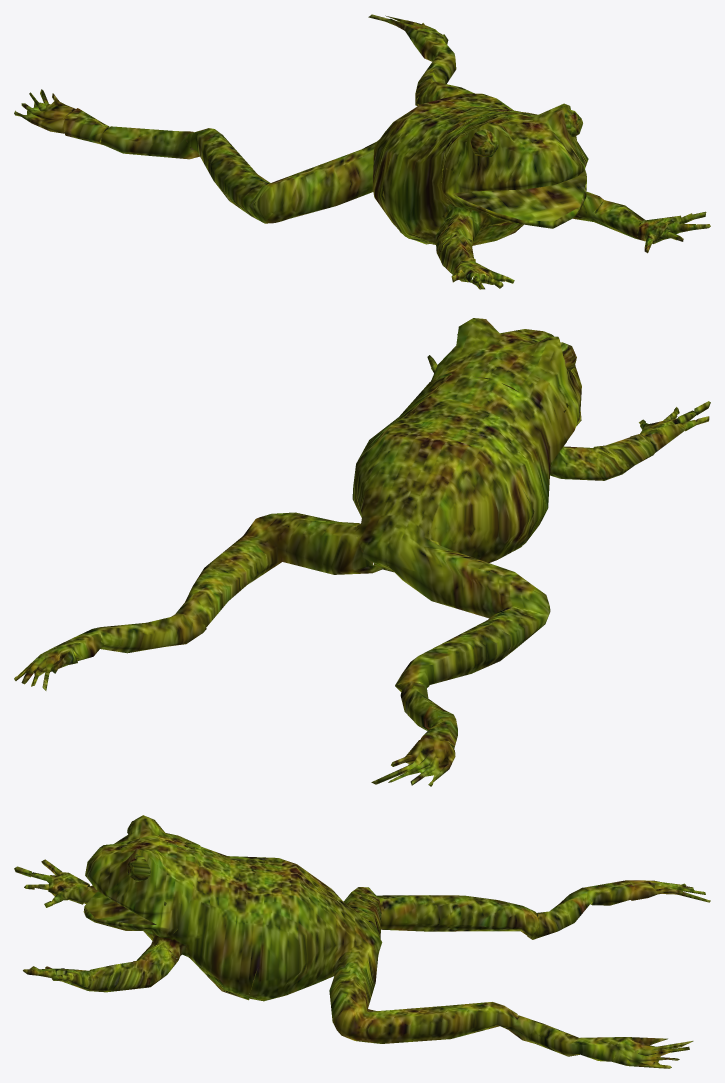
The model's file is frog2.obj.
3 views of the same model, one above another, from view 1: azimuth 30°, elevation 25°; view 2: azimuth 150°, elevation 25°; view 3: azimuth 270°, elevation 25° (orthographic). The views are drawn at different scales.
Visible parts, largest first — view 1: chest, rThigh, rShin, rAnkle, hip, rToes, lForeArm, rFoot, rForeArm, lAnkle, rShldr, lHand (+5 smaller); view 2: chest, hip, rThigh, rShin, lThigh, lShin, lAnkle, rToes, rForeArm, rAnkle, rShldr, lToes (+2 smaller); view 3: chest, hip, lShin, rShin, lThigh, lToes, lAnkle, lForeArm, rAnkle, lShldr, rToes, lFoot (+4 smaller).
Part boxes in pixels (box(x1,y1,x2,y2)): chest: box(382, 98, 588, 245); rThigh: box(256, 142, 375, 222); rShin: box(187, 128, 273, 223); rAnkle: box(100, 126, 199, 159); hip: box(372, 93, 495, 244); rToes: box(14, 89, 75, 133); lForeArm: box(592, 200, 645, 239); rFoot: box(62, 108, 109, 144); rForeArm: box(436, 233, 475, 276); lAnkle: box(415, 52, 456, 105); rShldr: box(435, 213, 479, 251); lHand: box(637, 215, 682, 243); chest: box(371, 318, 581, 544); hip: box(352, 425, 534, 572); rThigh: box(388, 542, 545, 618); rShin: box(395, 595, 550, 687); lThigh: box(256, 512, 381, 574); lShin: box(176, 519, 282, 627); lAnkle: box(93, 613, 206, 653); rToes: box(371, 738, 455, 786); rForeArm: box(593, 434, 656, 480); rAnkle: box(395, 681, 455, 730); rShldr: box(561, 446, 608, 480); lToes: box(14, 646, 77, 690); chest: box(83, 815, 278, 1000); hip: box(249, 858, 382, 1001); lShin: box(337, 1002, 517, 1043); rShin: box(377, 895, 538, 937); lThigh: box(329, 946, 379, 1029); lToes: box(612, 1037, 693, 1068); lAnkle: box(508, 1015, 579, 1056); lForeArm: box(89, 960, 149, 992); rAnkle: box(527, 888, 592, 939); lShldr: box(133, 943, 178, 987); rToes: box(626, 880, 710, 902); lFoot: box(575, 1037, 626, 1061).
Bounding box in the file's own units: 0.0926 × 0.0379 × 0.1514.
4 materials, 4 textured.
